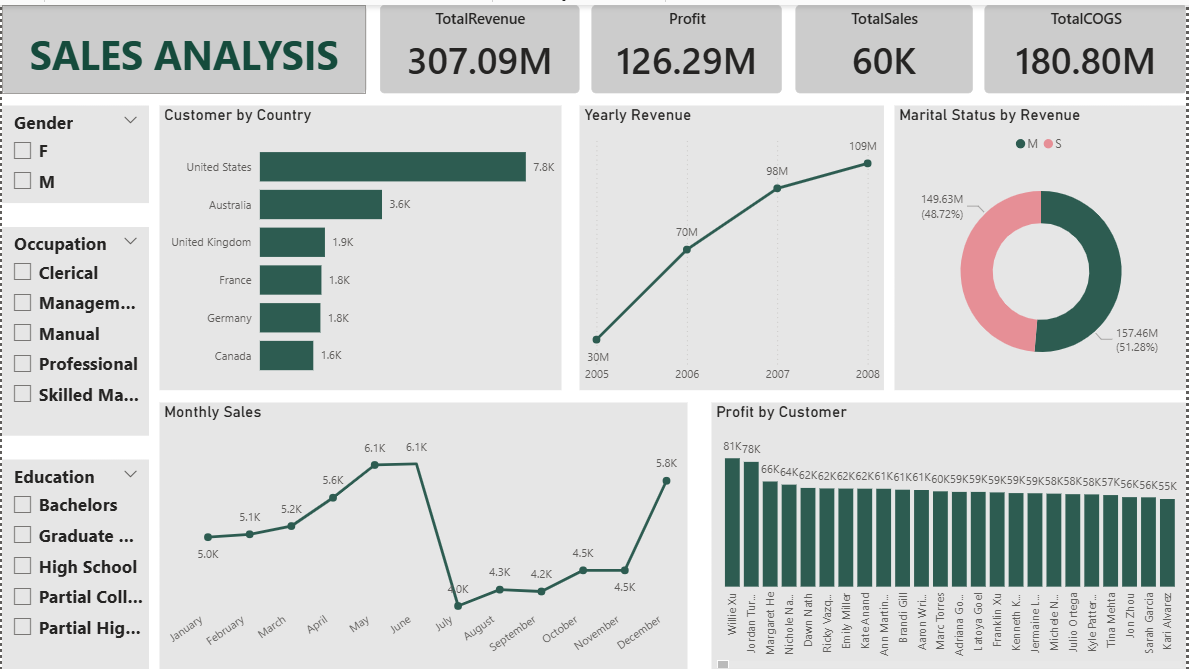

The dashboard page shown, as its layout file describes it:
{"tool":"powerbi","page":{"name":"Page 1","canvas":[1280,720],"ordinal":0},"visuals":[{"type":"card","title":"TotalRevenue","fields":{"Values":["SalesTable.TotalRevenue"]},"box":[407.2,0,215.4,95.5],"z":0},{"type":"card","title":"TotalSales","fields":{"Values":["SalesTable.TotalSales"]},"box":[855.8,0,191.1,95.5],"z":1},{"type":"card","title":"Profit","fields":{"Values":["SalesTable.Profit"]},"box":[636.4,0,205.6,95.5],"z":2},{"type":"card","title":"TotalCOGS","fields":{"Values":["SalesTable.TotalCOGS"]},"box":[1060.6,0,218.6,95.5],"z":3},{"type":"textbox","box":[0,0,393.5,95.5],"z":6},{"type":"barChart","title":"Customer by Country","fields":{"Category":["Geography.Country"],"Y":["CountNonNull(Customer.CustomerKey)"]},"box":[170,108.5,434,307.7],"z":8},{"type":"lineChart","title":"Yearly Revenue","fields":{"Category":["Date.CalendarYear"],"Y":["SalesTable.TotalRevenue"]},"box":[623.4,108.5,328.7,307.7],"z":9},{"type":"donutChart","title":"Marital Status by Revenue","fields":{"Category":["Customer.MaritalStatus"],"Y":["SalesTable.TotalRevenue"]},"box":[963.4,108.5,315.7,307.7],"z":10},{"type":"lineChart","title":"Monthly Sales","fields":{"Category":["SalesTable.OrderDate.Variation.Date Hierarchy.Month"],"Y":["SalesTable.TotalSales"]},"box":[170,429.1,570,291.5],"z":11},{"type":"columnChart","title":"Profit by Customer","fields":{"Y":["SalesTable.Profit"],"Category":["Customer.FullName"]},"box":[765.9,429.1,513.3,291.5],"z":12},{"type":"slicer","fields":{"Values":["Customer.Gender"]},"box":[0,108.5,158.7,105.2],"z":13},{"type":"slicer","fields":{"Values":["Customer.Occupation"]},"box":[0,239.6,158.7,225.1],"z":14},{"type":"slicer","fields":{"Values":["Customer.Education"]},"box":[0,490.1,158.7,229.9],"z":15}]}

Visuals, with their boxes in screenshot pixels (x1, y1, x2, y2), scaled from the page's 1280x720 canvas onto the 1189x669 screenshot:
"TotalRevenue" card: select_region(378, 0, 578, 89)
"TotalSales" card: select_region(795, 0, 972, 89)
"Profit" card: select_region(591, 0, 782, 89)
"TotalCOGS" card: select_region(985, 0, 1188, 89)
textbox: select_region(0, 0, 366, 89)
"Customer by Country" barChart: select_region(158, 101, 561, 387)
"Yearly Revenue" lineChart: select_region(579, 101, 884, 387)
"Marital Status by Revenue" donutChart: select_region(895, 101, 1188, 387)
"Monthly Sales" lineChart: select_region(158, 399, 687, 668)
"Profit by Customer" columnChart: select_region(711, 399, 1188, 668)
slicer - Customer.Gender: select_region(0, 101, 147, 199)
slicer - Customer.Occupation: select_region(0, 223, 147, 432)
slicer - Customer.Education: select_region(0, 455, 147, 668)
